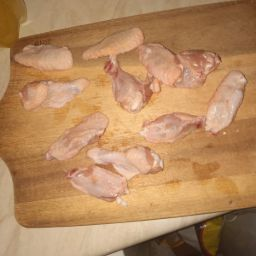Chicken: (61, 139, 172, 218), (130, 38, 222, 97), (190, 67, 256, 149), (21, 108, 114, 162), (91, 51, 164, 117), (12, 68, 97, 116), (69, 23, 148, 63), (134, 107, 207, 147), (10, 40, 80, 79)
